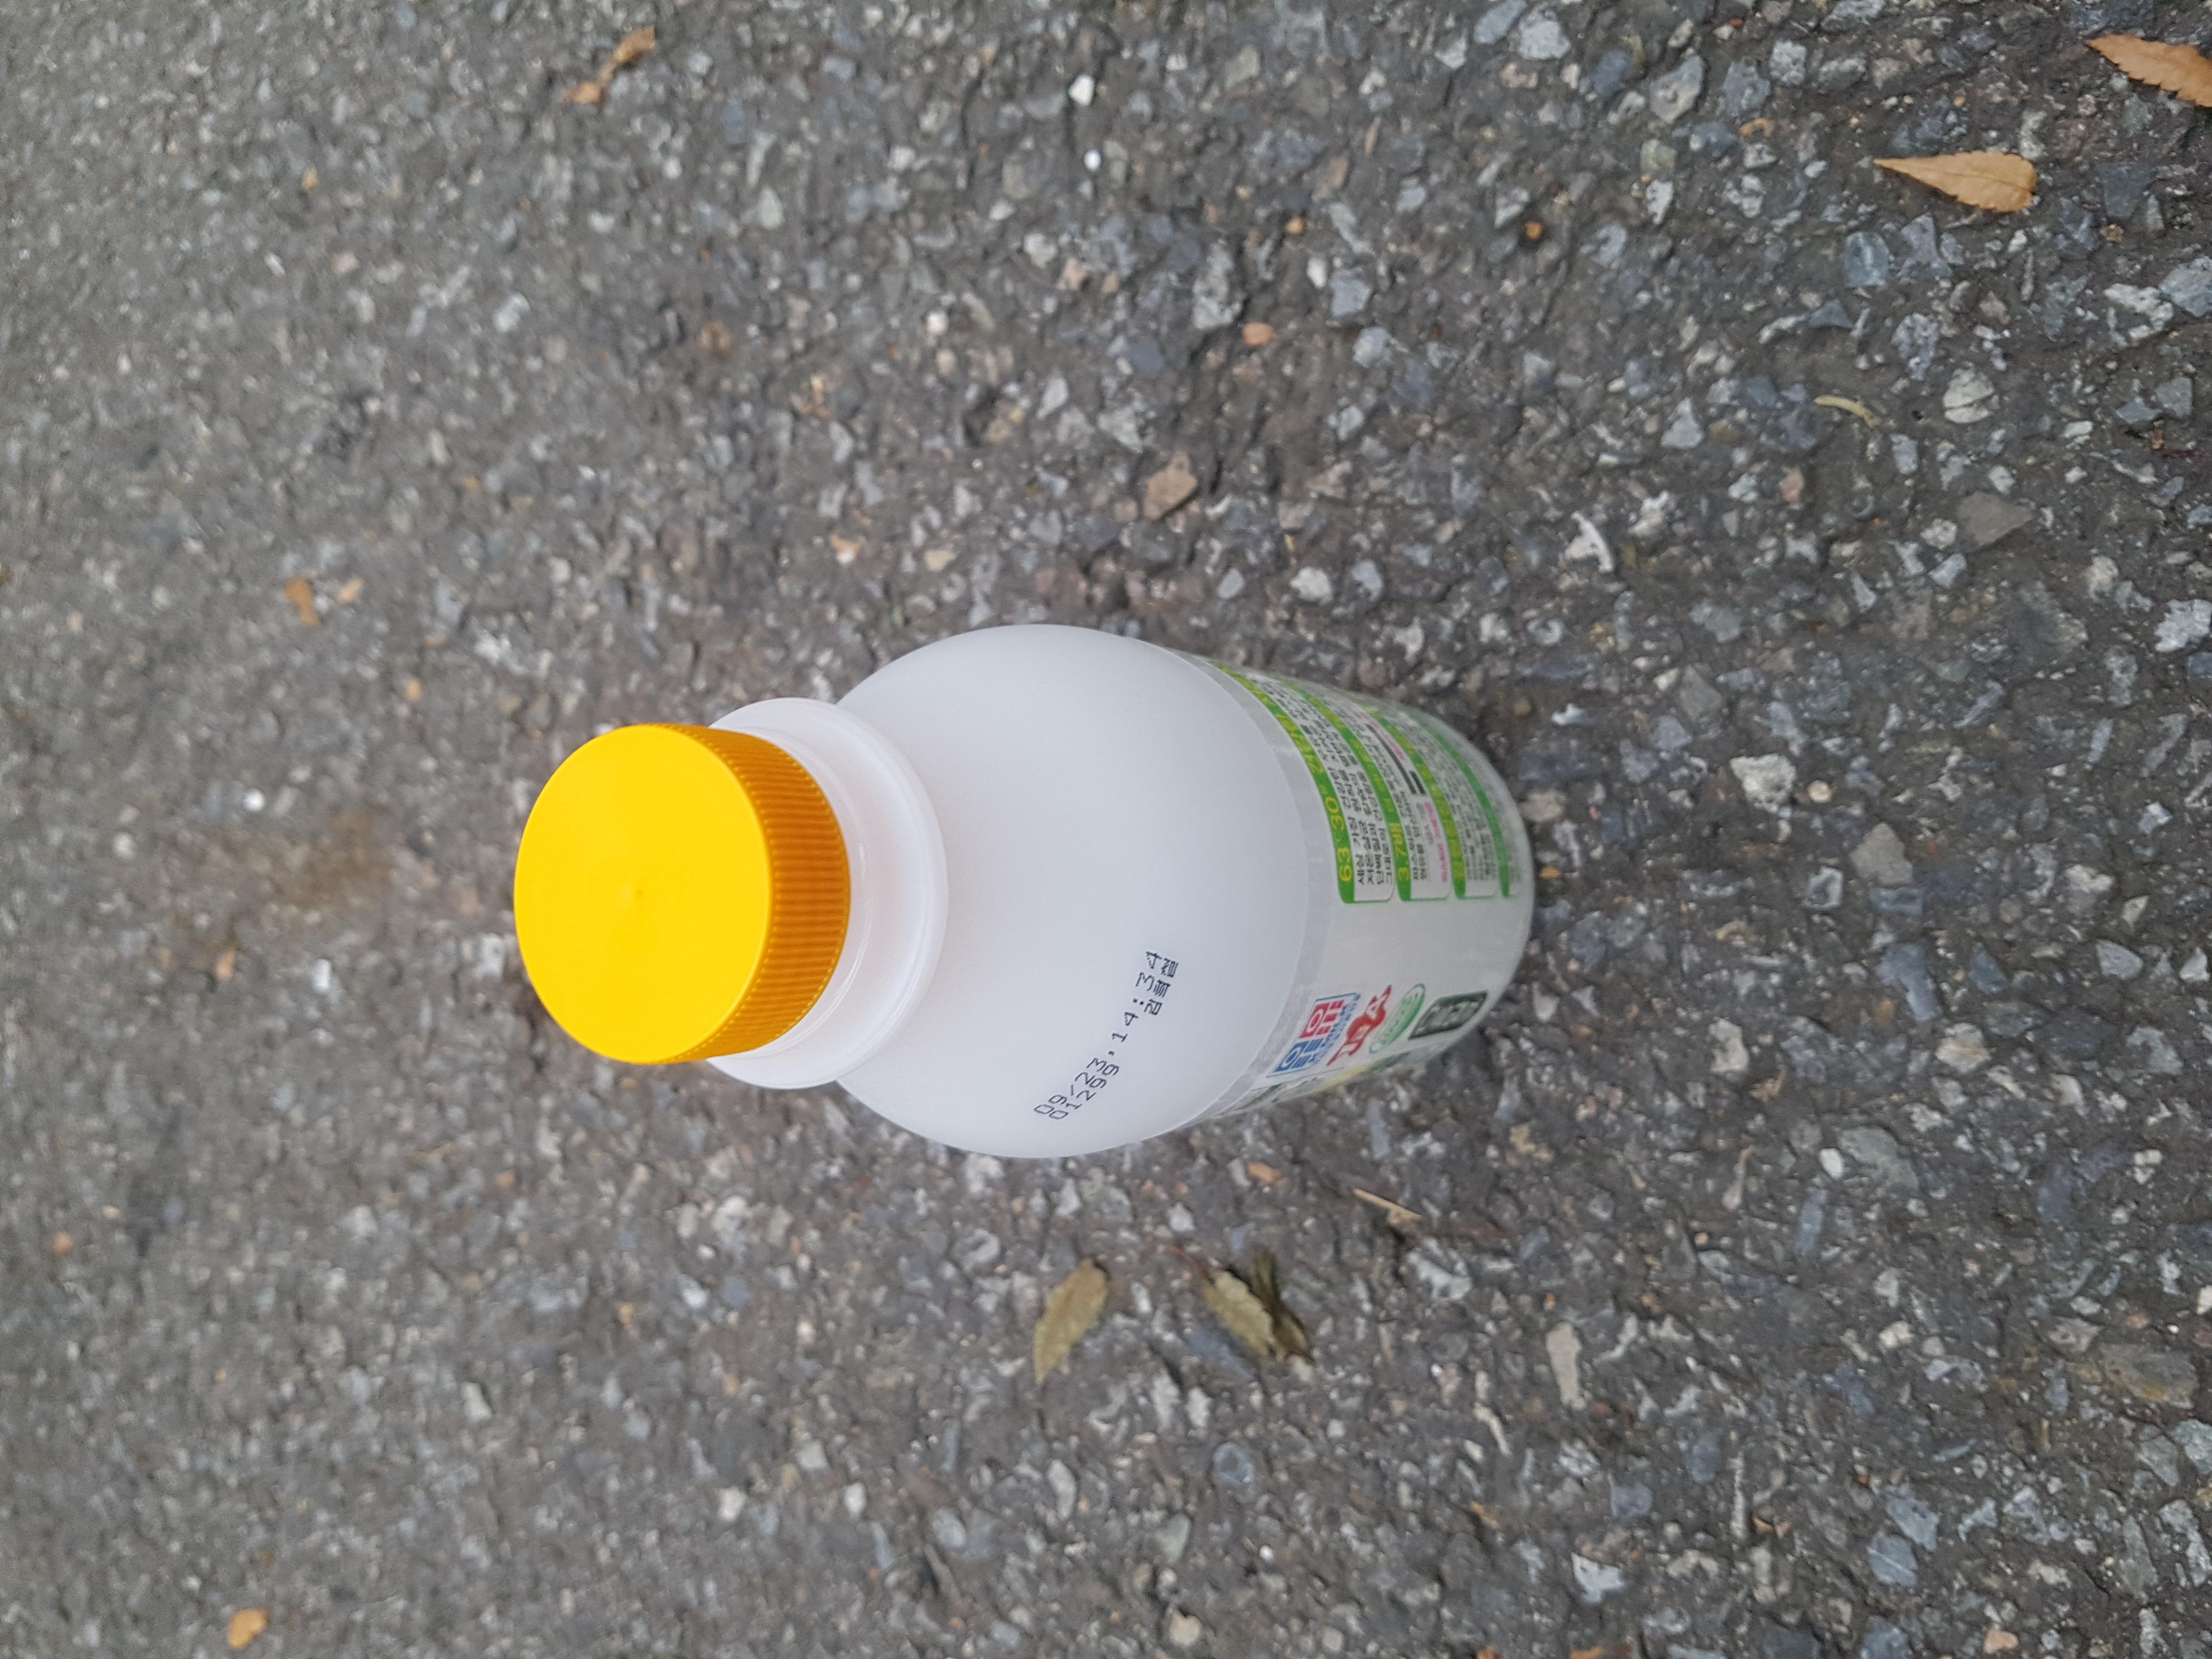bottle: (550, 373, 1468, 1154)
